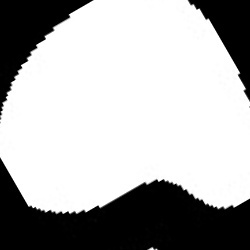spot: (2, 1, 248, 213)
